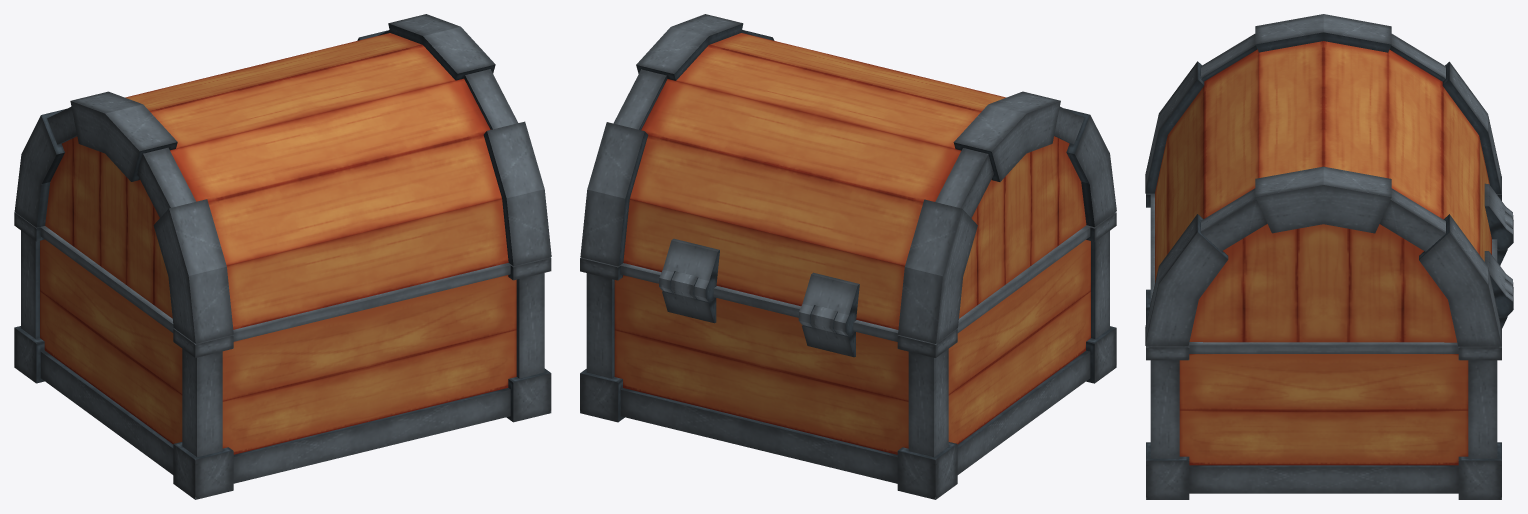
The model's file is Bau.fbx.
3 views of the same model, side by side, from view 1: azimuth 30°, elevation 25°; view 2: azimuth 150°, elevation 25°; view 3: azimuth 270°, elevation 25° (orthographic).
Parts seen in each view (by area): view 1: Chest; view 2: Chest; view 3: Chest.
Boxes of the visible parts, x1,y1,x2,y2 form: Chest: [14, 14, 551, 499]; Chest: [580, 14, 1116, 499]; Chest: [1145, 14, 1513, 499].
Size of the model in its own units: 84 by 72.2 by 76.55.
